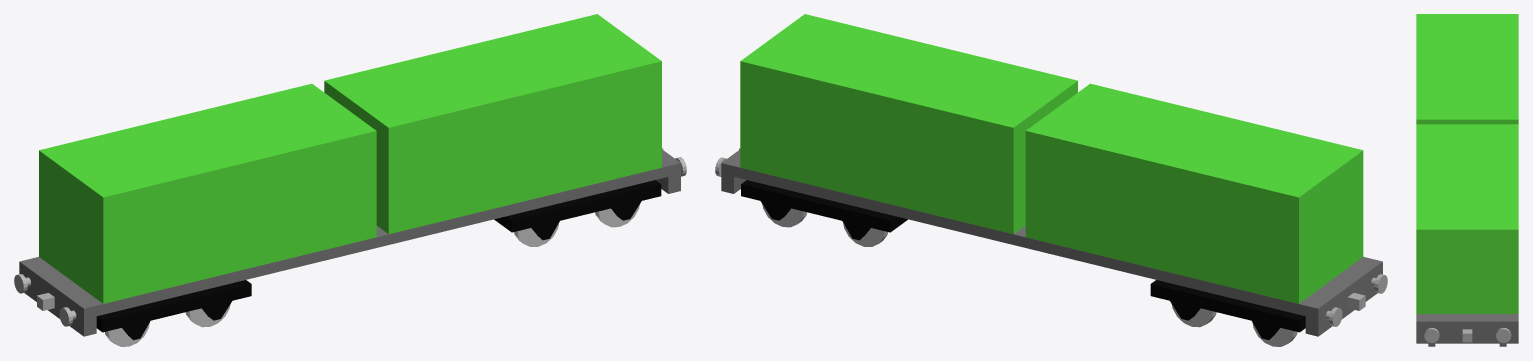
File: frigth_vehicle_01.glb
The picture shows the model from 3 angles, left to right: view 1: azimuth 30°, elevation 25°; view 2: azimuth 150°, elevation 25°; view 3: azimuth 270°, elevation 25°; orthographic projection. The views are drawn at different scales.
Visible parts, largest first — view 1: Container_01; view 2: Container_01; view 3: Container_01.
Part boxes in pixels (x1,y1,x2,y2): Container_01: (14,14,686,346); Container_01: (715,14,1387,346); Container_01: (1416,14,1518,346).
Size of the model in its own units: 11.1 by 2.78 by 2.
Materials: 1 (1 with a texture image).
